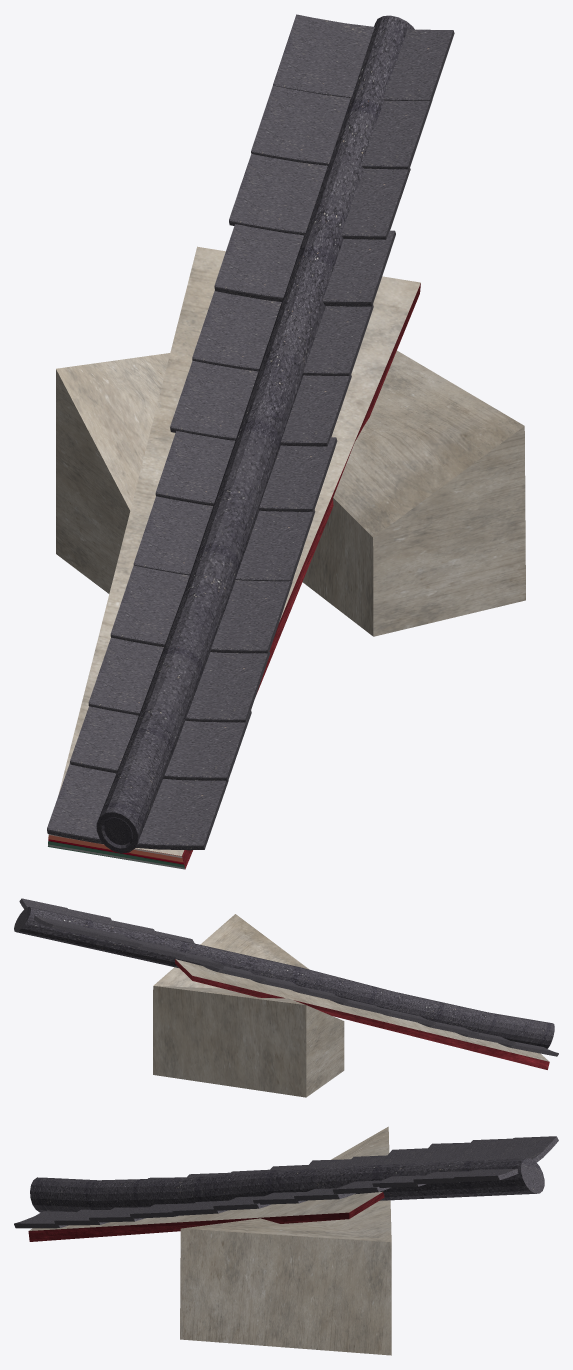
The model's file is SM_Roof_46.fbx.
3 renders of one model, top to bottom at view 1: azimuth 30°, elevation 25°; view 2: azimuth 150°, elevation 25°; view 3: azimuth 270°, elevation 25°, orthographic. The views are drawn at different scales.
Visible parts, largest first — view 1: SM_Roof_46; view 2: SM_Roof_46; view 3: SM_Roof_46.
Boxes of the visible parts, x1,y1,x2,y2 form: SM_Roof_46: [47, 14, 525, 869]; SM_Roof_46: [14, 898, 558, 1097]; SM_Roof_46: [14, 1126, 558, 1355].
Size of the model in its own units: 609 by 608 by 331.
4 materials, 4 textured.
